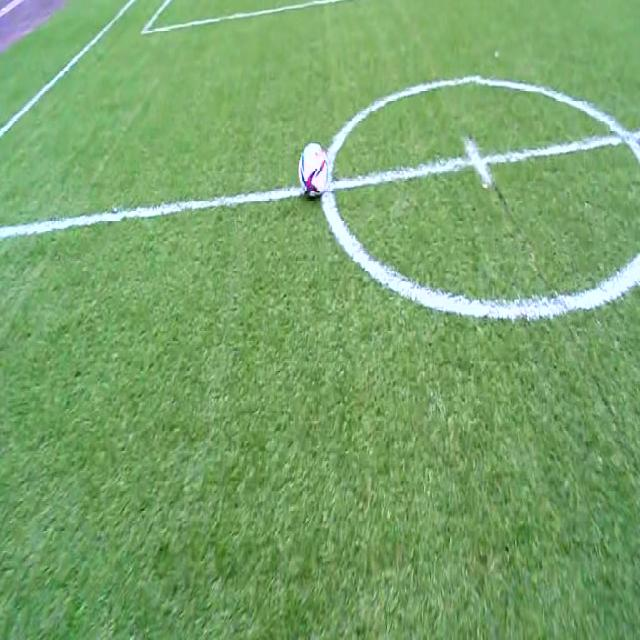ball: (298, 142, 329, 196)
